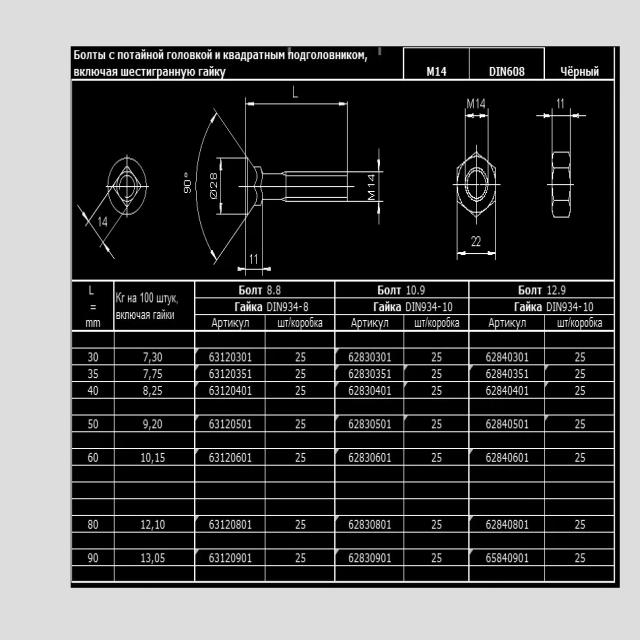marking_line: (196, 107, 245, 267), (244, 95, 348, 157), (349, 147, 382, 224), (536, 107, 588, 151), (237, 217, 272, 276), (78, 208, 113, 263), (455, 218, 498, 261), (216, 155, 245, 217), (463, 109, 490, 152)
numeric: (292, 85, 299, 100), (512, 66, 519, 77), (183, 186, 191, 195), (183, 178, 191, 187), (475, 235, 481, 247), (87, 385, 93, 397), (295, 384, 301, 396), (519, 66, 526, 76), (145, 552, 151, 563), (160, 519, 166, 530), (225, 385, 231, 396), (295, 552, 301, 563), (301, 552, 307, 563), (348, 352, 354, 363), (380, 385, 386, 396), (485, 552, 491, 563), (210, 171, 217, 180), (368, 173, 375, 182), (480, 97, 485, 109), (88, 418, 93, 430), (94, 418, 99, 430), (93, 384, 98, 396), (93, 452, 98, 464), (87, 452, 93, 462), (87, 519, 93, 529), (241, 553, 247, 563), (143, 369, 149, 379), (157, 419, 163, 429), (214, 419, 220, 429), (241, 385, 247, 395), (295, 352, 300, 364), (296, 368, 301, 380), (301, 418, 306, 430), (302, 368, 307, 380), (348, 551, 353, 563), (348, 385, 354, 395), (348, 453, 354, 463), (447, 302, 453, 312), (560, 284, 565, 296), (502, 352, 508, 362), (518, 352, 524, 362), (518, 369, 524, 379), (507, 419, 513, 429), (485, 452, 491, 462), (492, 451, 497, 463), (303, 302, 309, 312), (502, 552, 508, 562), (210, 181, 218, 188), (248, 253, 253, 264), (471, 235, 476, 246), (94, 351, 99, 362), (209, 553, 214, 564), (241, 519, 246, 530), (143, 385, 148, 396), (157, 385, 162, 396), (152, 385, 157, 396), (152, 368, 157, 379), (157, 351, 162, 362), (152, 352, 157, 363), (161, 452, 166, 463), (209, 351, 214, 362), (242, 418, 247, 429), (236, 351, 241, 362), (295, 452, 300, 463), (301, 519, 306, 530), (295, 519, 300, 530), (349, 518, 354, 529), (370, 519, 375, 530), (437, 552, 442, 563), (354, 351, 359, 362), (349, 368, 354, 379), (386, 385, 391, 396), (427, 301, 432, 312), (437, 368, 442, 379), (589, 301, 594, 312), (492, 368, 497, 379), (486, 368, 491, 379), (502, 385, 507, 396), (513, 418, 518, 429), (486, 418, 491, 429), (524, 519, 529, 530), (581, 385, 586, 396), (581, 519, 586, 530), (441, 67, 447, 76), (157, 369, 163, 378), (225, 419, 231, 428), (225, 369, 231, 378), (241, 352, 247, 361), (225, 453, 231, 462), (552, 286, 558, 295), (496, 419, 502, 428), (293, 302, 299, 311), (575, 386, 581, 395), (435, 66, 440, 76), (507, 66, 512, 76), (93, 519, 98, 529), (88, 553, 93, 563), (160, 552, 165, 562), (209, 519, 214, 529), (236, 519, 241, 529), (231, 519, 236, 529), (236, 553, 241, 563), (143, 352, 148, 362), (143, 419, 148, 429), (152, 419, 157, 429), (146, 453, 151, 463), (209, 369, 214, 379), (209, 385, 214, 395), (209, 419, 214, 429), (236, 369, 241, 379), (242, 453, 247, 463), (236, 452, 241, 462), (231, 452, 236, 462), (215, 452, 220, 462), (209, 452, 214, 462), (295, 419, 300, 429), (301, 452, 306, 462), (301, 385, 306, 395), (301, 352, 306, 362), (353, 519, 358, 529), (354, 553, 359, 563), (360, 553, 365, 563), (370, 553, 375, 563), (381, 553, 386, 563), (375, 552, 380, 562), (431, 553, 436, 563), (370, 352, 375, 362), (381, 352, 386, 362), (365, 369, 370, 379), (370, 369, 375, 379), (354, 368, 359, 378), (376, 386, 381, 396), (370, 385, 375, 395), (365, 385, 370, 395), (360, 385, 365, 395), (354, 385, 359, 395), (349, 419, 354, 429), (370, 419, 375, 429), (381, 419, 386, 429), (376, 452, 381, 462), (370, 453, 375, 463), (365, 452, 370, 462), (411, 285, 416, 295), (420, 285, 425, 295), (433, 301, 438, 311), (421, 302, 426, 312), (437, 352, 442, 362), (432, 369, 437, 379), (437, 419, 442, 429), (437, 452, 442, 462), (562, 303, 567, 313), (513, 352, 518, 362), (524, 369, 529, 379), (513, 369, 518, 379), (497, 369, 502, 379), (486, 385, 491, 395), (518, 419, 523, 429), (491, 419, 496, 429), (497, 452, 502, 462), (502, 452, 507, 462), (513, 453, 518, 463), (519, 452, 524, 462), (524, 452, 529, 462), (276, 285, 281, 295), (288, 302, 293, 312), (486, 519, 491, 529), (513, 520, 518, 530), (518, 519, 523, 529), (497, 553, 502, 563), (519, 553, 524, 563), (575, 369, 580, 379), (575, 419, 580, 429), (580, 452, 585, 462), (575, 520, 580, 530), (88, 369, 93, 378), (220, 520, 225, 529), (225, 520, 230, 529), (225, 553, 230, 562), (231, 553, 236, 562), (220, 419, 225, 428), (231, 420, 236, 429), (231, 369, 236, 378), (236, 386, 241, 395), (381, 520, 386, 529), (431, 520, 436, 529), (365, 353, 370, 362), (354, 420, 359, 429), (359, 420, 364, 429), (365, 420, 370, 429), (381, 453, 386, 462), (354, 453, 359, 462), (432, 386, 437, 395), (432, 419, 437, 428), (432, 453, 437, 462), (547, 286, 552, 295), (573, 302, 578, 311), (567, 302, 572, 311), (486, 353, 491, 362), (508, 353, 513, 362), (502, 369, 507, 378), (519, 386, 524, 395), (513, 386, 518, 395), (491, 386, 496, 395), (502, 419, 507, 428), (282, 302, 287, 311), (492, 520, 497, 529), (502, 520, 507, 529), (508, 553, 513, 562), (581, 419, 586, 428), (575, 453, 580, 462), (575, 553, 580, 562), (103, 216, 107, 227), (254, 254, 258, 265), (94, 368, 98, 379), (141, 553, 145, 564), (155, 519, 159, 530), (155, 552, 159, 563), (248, 519, 252, 530), (248, 552, 252, 563), (248, 418, 252, 429), (215, 385, 219, 396), (231, 385, 235, 396), (248, 352, 252, 363), (365, 552, 369, 563), (387, 519, 391, 530), (376, 368, 380, 379), (387, 452, 391, 463), (406, 285, 410, 296), (508, 368, 512, 379), (513, 552, 517, 563), (524, 552, 528, 563), (575, 351, 579, 362), (581, 351, 585, 362), (581, 368, 585, 379), (88, 352, 92, 362), (94, 553, 98, 563), (141, 519, 145, 529), (147, 519, 151, 529), (215, 519, 219, 529), (215, 553, 219, 563), (221, 553, 225, 563), (215, 352, 219, 362), (221, 352, 225, 362), (237, 419, 241, 429), (221, 369, 225, 379), (248, 385, 252, 395), (242, 368, 246, 378), (248, 452, 252, 462), (360, 519, 364, 529), (360, 352, 364, 362), (376, 352, 380, 362), (382, 369, 386, 379), (360, 369, 364, 379), (387, 419, 391, 429), (432, 352, 436, 362), (437, 385, 441, 395), (584, 302, 588, 312), (492, 352, 496, 362), (525, 352, 529, 362), (508, 386, 512, 396), (497, 386, 501, 396), (525, 419, 529, 429), (508, 453, 512, 463), (267, 285, 271, 295), (492, 553, 496, 563), (497, 519, 501, 529), (508, 519, 512, 529), (367, 183, 376, 187), (156, 453, 160, 462), (226, 352, 230, 361), (215, 369, 219, 378), (220, 386, 224, 395), (231, 352, 235, 361), (365, 520, 369, 529), (376, 520, 380, 529), (438, 520, 442, 529), (387, 353, 391, 362), (387, 369, 391, 378), (376, 419, 380, 428), (360, 453, 364, 462), (443, 303, 447, 312), (497, 352, 501, 361), (525, 386, 529, 395), (581, 553, 585, 562), (476, 98, 479, 109), (557, 98, 560, 109), (561, 98, 564, 109), (248, 368, 251, 379), (142, 453, 145, 463), (388, 553, 391, 563), (221, 453, 224, 462), (99, 216, 101, 227)
special_symbol: (209, 188, 218, 199), (184, 171, 188, 178), (148, 392, 151, 398), (149, 426, 152, 431), (152, 459, 155, 464), (149, 359, 152, 364), (149, 376, 151, 381)
